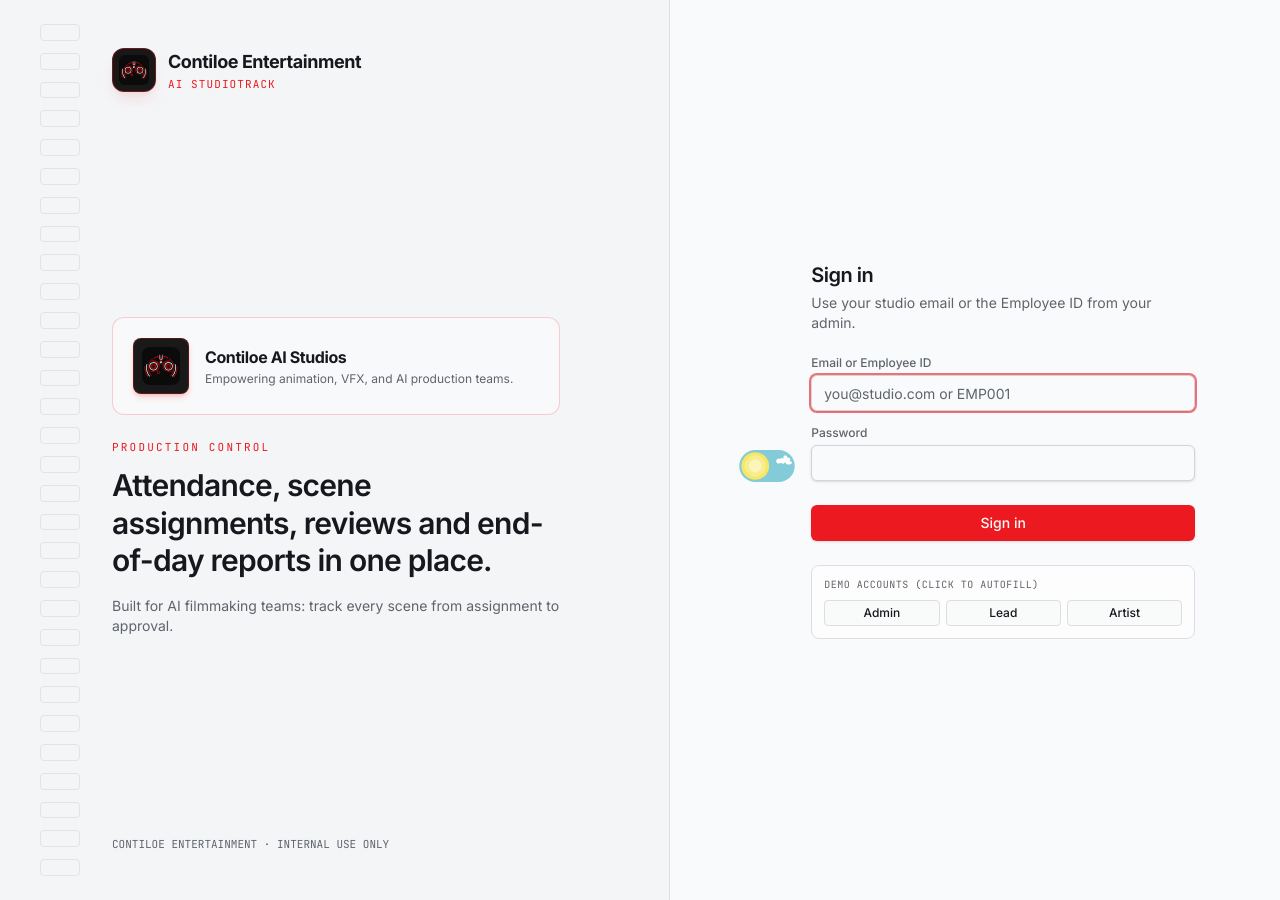
Test case: LoginPage › shows the server's error and stores no token on bad credentials
The width and height of the screenshot is (1280, 900).
Type "x@studio.test" into the field labelled "Email or Employee ID" at [1003, 393], box [811, 375, 1195, 411]
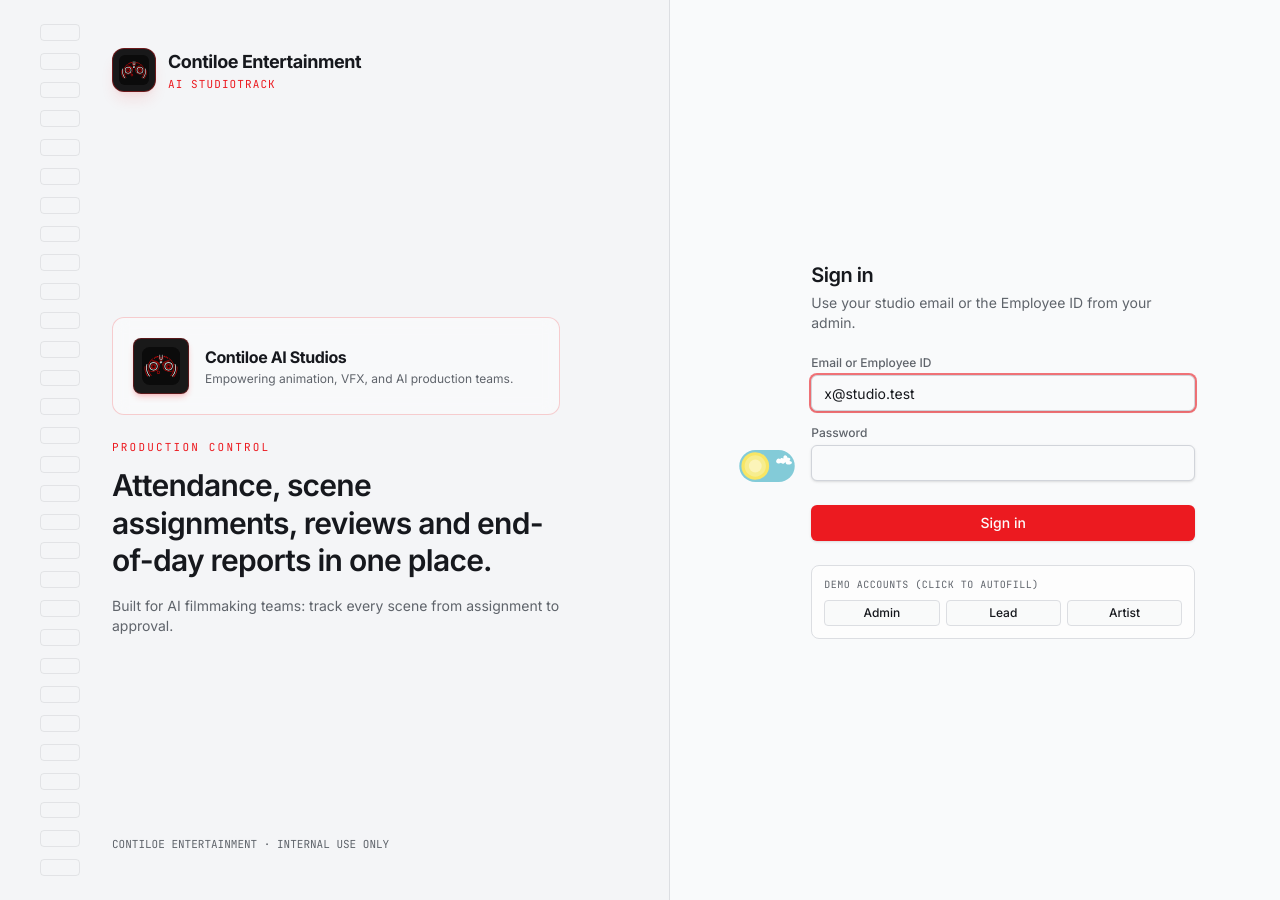
Type "wrong" into the password field labelled "Password" at [1003, 463], box [811, 445, 1195, 481]
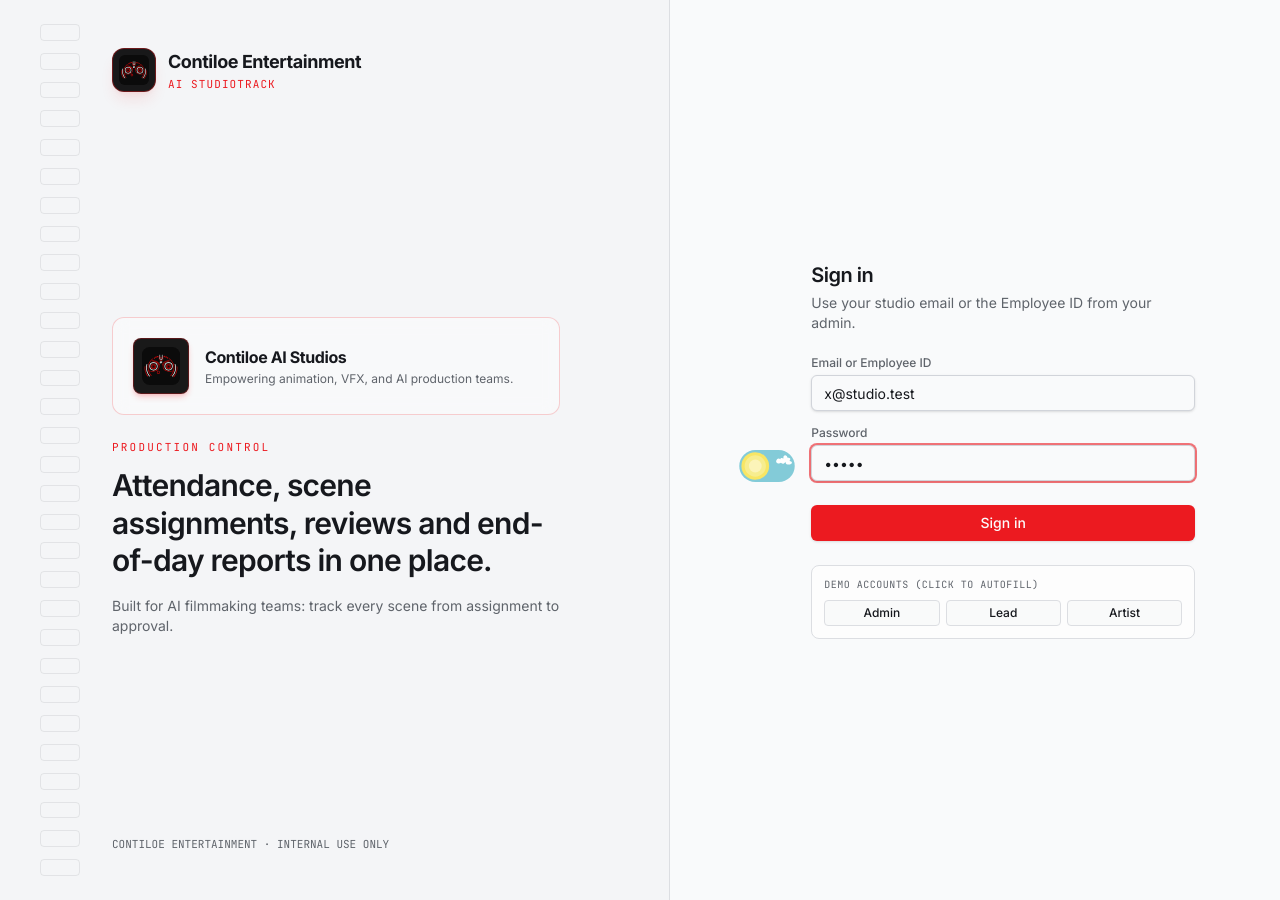
Click the button "Sign in" at [1003, 523], box [811, 505, 1195, 541]
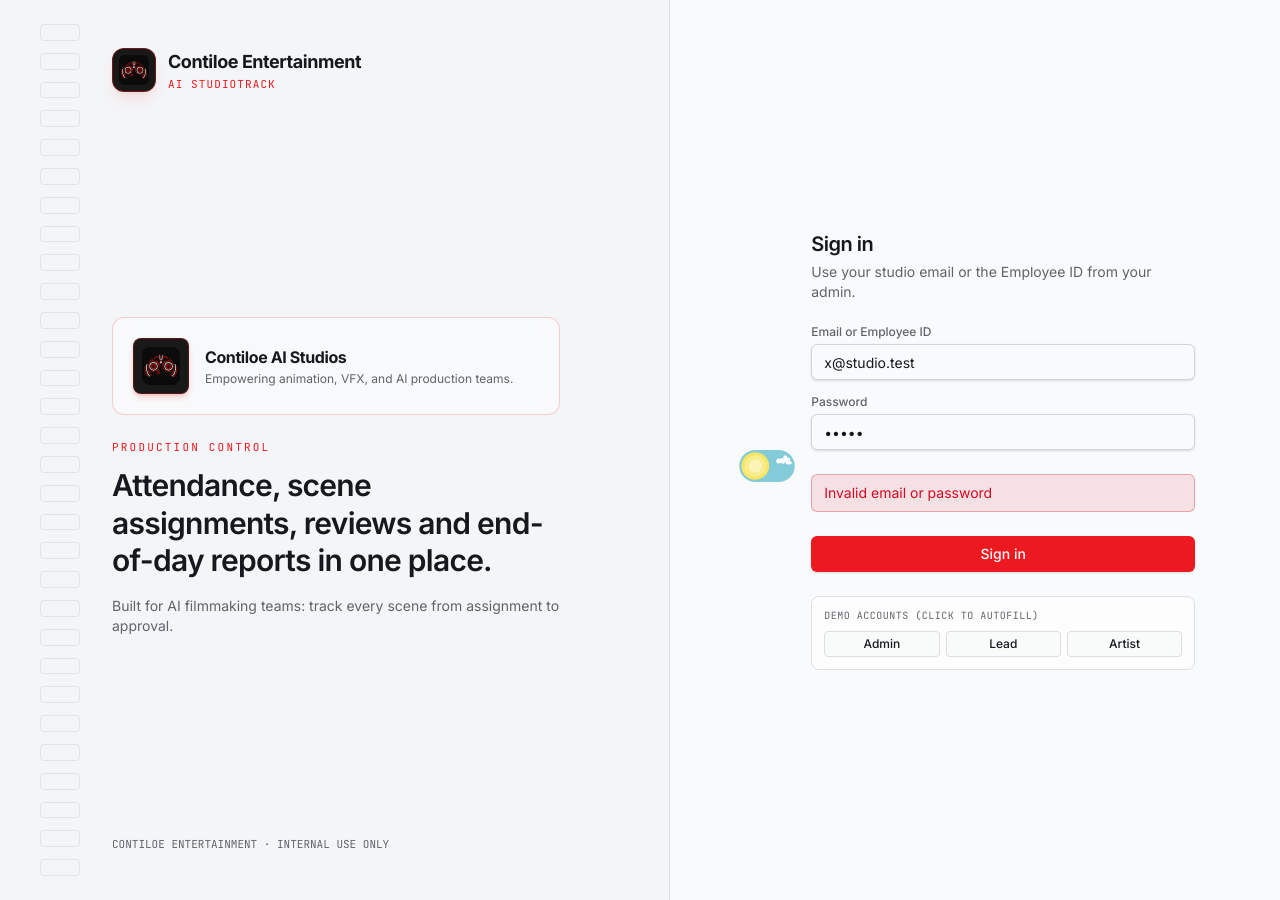
Now the message reads "Invalid email or password", box [824, 484, 992, 501]
